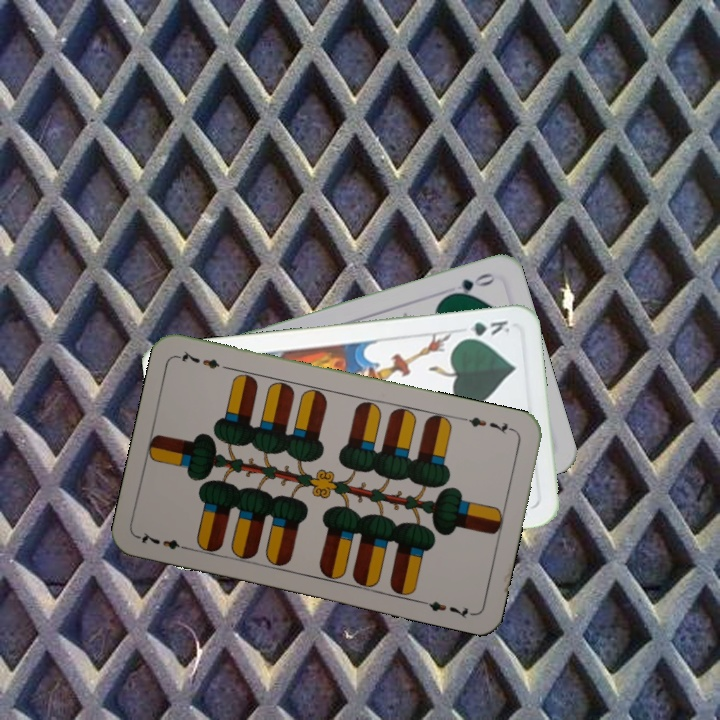E7: (135, 528, 193, 554), (459, 413, 517, 436)
GK: (456, 316, 512, 343)
GO: (442, 268, 498, 300)
